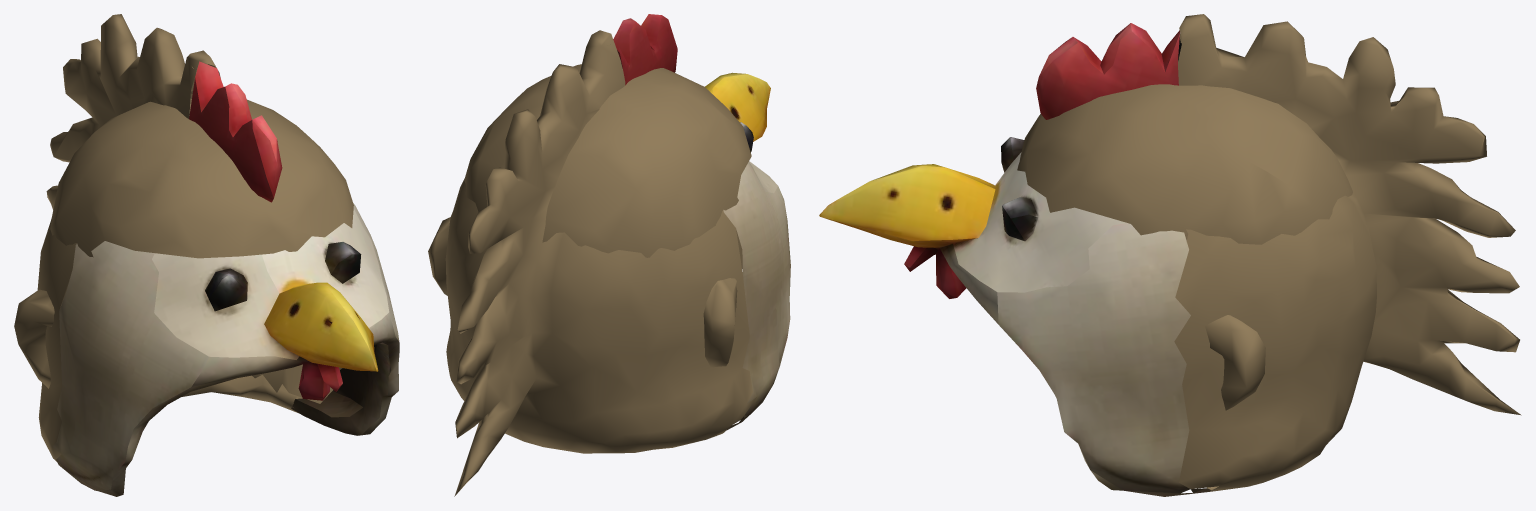
File: chicken.glb
3 renders of one model, left to right at view 1: azimuth 30°, elevation 25°; view 2: azimuth 150°, elevation 25°; view 3: azimuth 270°, elevation 25°, orthographic. The views are drawn at different scales.
Parts seen in each view (by area): view 1: geometry_0, HoodAnatomicalLining; view 2: geometry_0, HoodAnatomicalLining; view 3: geometry_0, HoodAnatomicalLining.
Part boxes in pixels (x1=…): geometry_0: x1=37, y1=14, x2=399, y2=496; HoodAnatomicalLining: x1=14, y1=98, x2=353, y2=403; geometry_0: x1=445, y1=14, x2=790, y2=496; HoodAnatomicalLining: x1=428, y1=64, x2=751, y2=367; geometry_0: x1=819, y1=14, x2=1521, y2=496; HoodAnatomicalLining: x1=1017, y1=84, x2=1352, y2=410.
Size of the model in its own units: 0.4602 by 0.5341 by 0.8181.
Materials: 2 (1 with a texture image).
